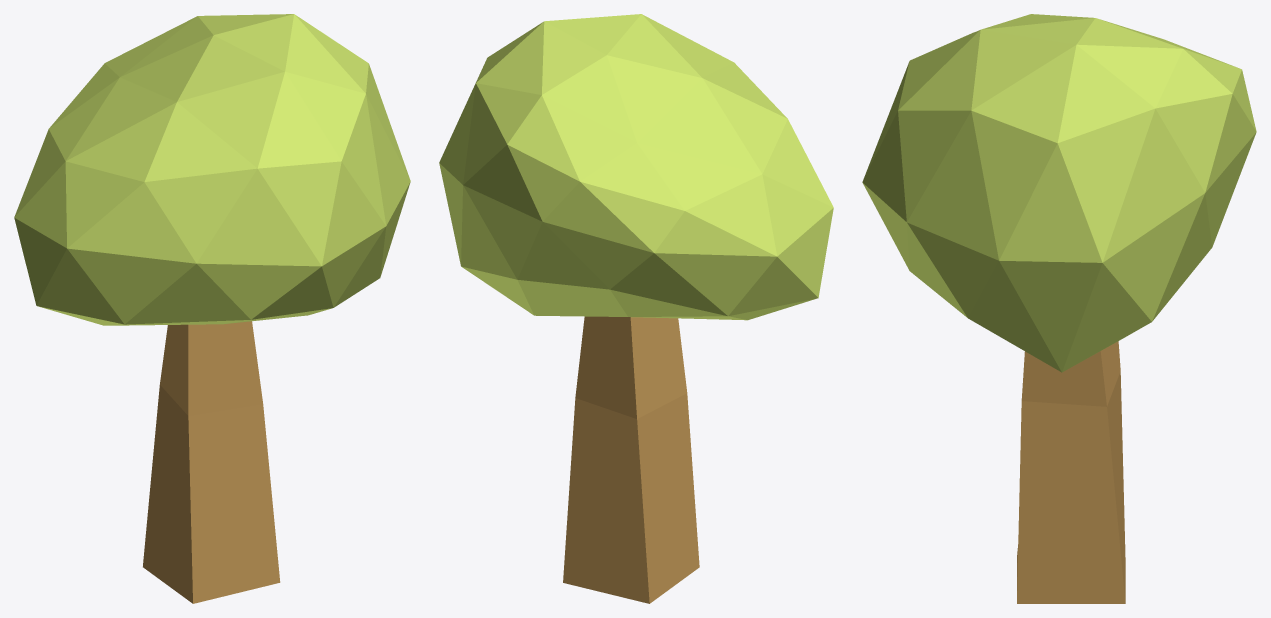
Rendered from Tree_1.glb.
3 renders of one model, left to right at view 1: azimuth 30°, elevation 25°; view 2: azimuth 150°, elevation 25°; view 3: azimuth 270°, elevation 25°, orthographic. The views are drawn at different scales.
Parts seen in each view (by area): view 1: Tree_1; view 2: Tree_1; view 3: Tree_1.
Part boxes in pixels (x1=…): Tree_1: x1=14, y1=14, x2=410, y2=603; Tree_1: x1=439, y1=14, x2=833, y2=603; Tree_1: x1=862, y1=14, x2=1256, y2=603.
Size of the model in its own units: 5.44 by 7.77 by 4.78.
